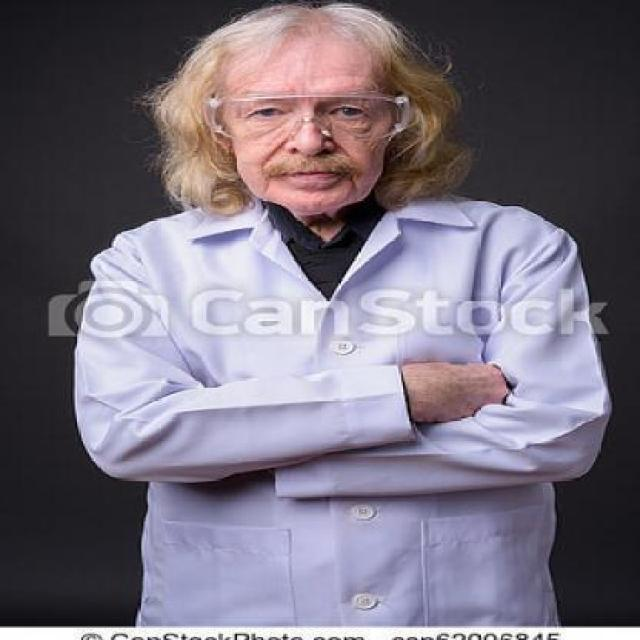face_nomask: (240, 90, 377, 193)
glasses: (198, 92, 414, 140)
head_nohelmet: (220, 2, 402, 68)
person: (93, 2, 605, 623)
